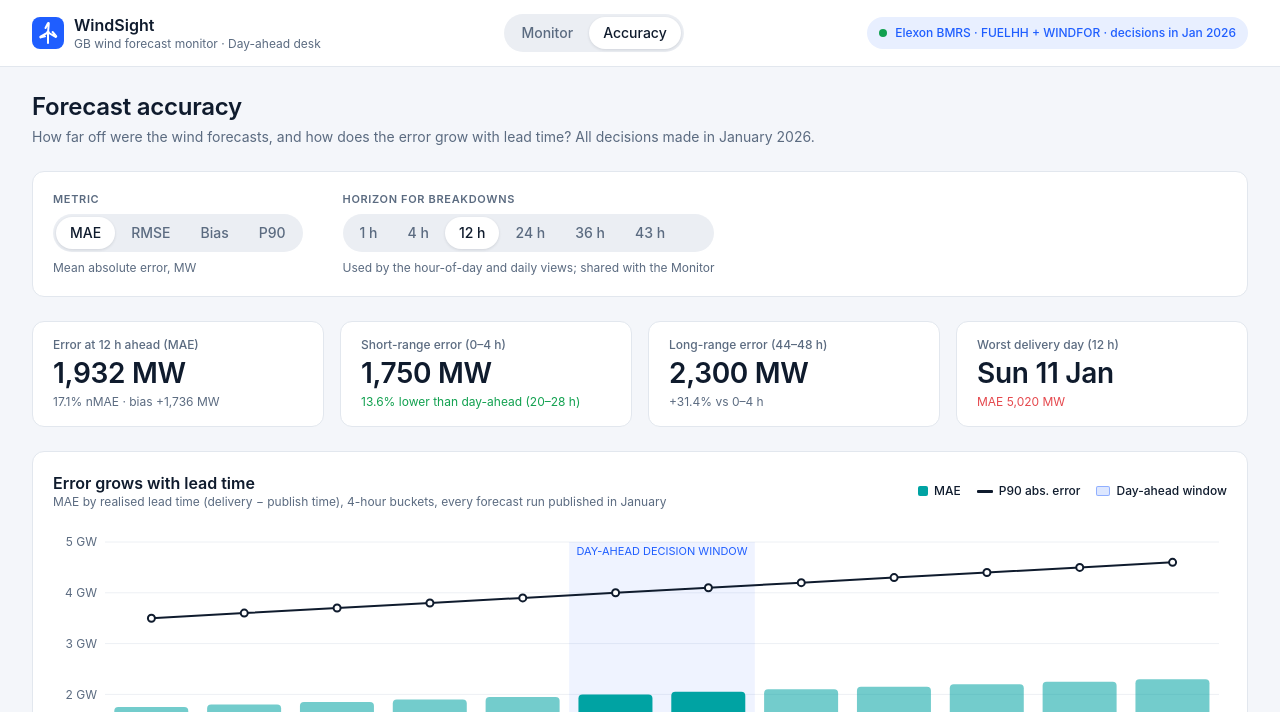
Test case: App › restores a non-default view from the URL and keeps the URL in sync when switching
This screenshot has width=1280, height=712.
Expected: the heading "Forecast accuracy" is shown, [32,92,242,121]
Click the button "Monitor". click: {"x": 547, "y": 33}
box: [507,17,587,49]
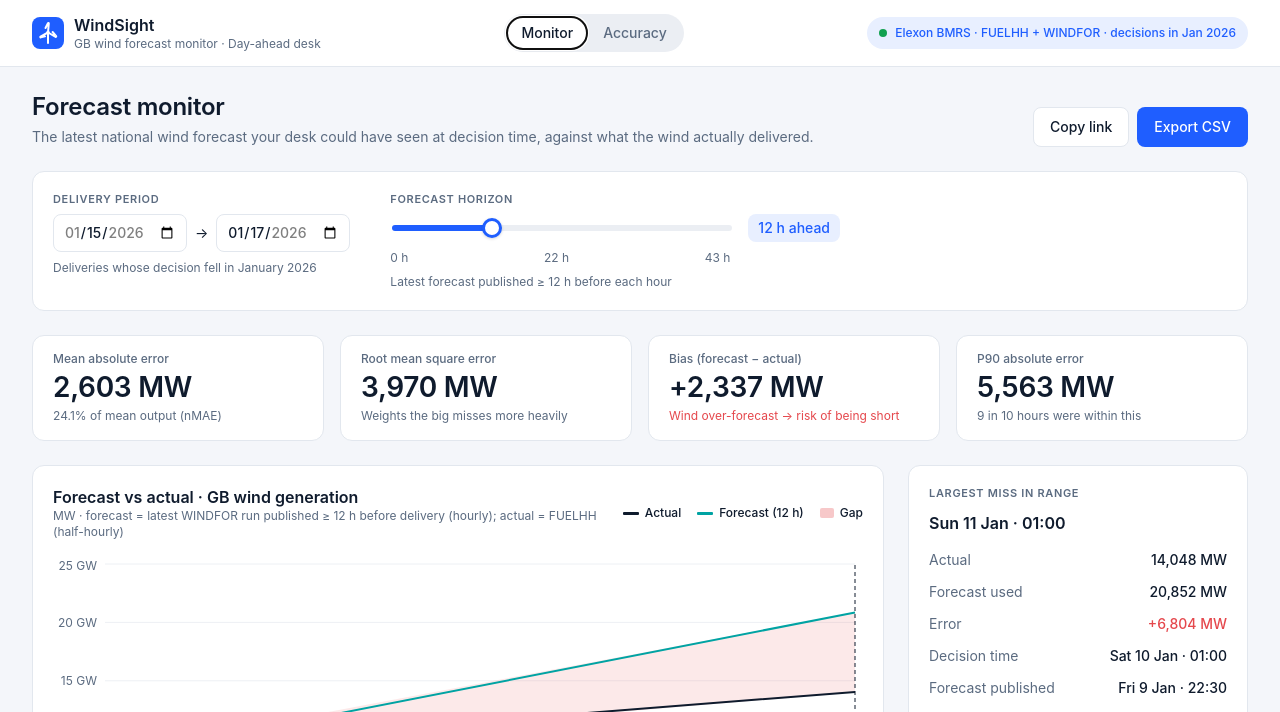
Expected: the heading "Forecast monitor" is shown, [32,92,225,121]
